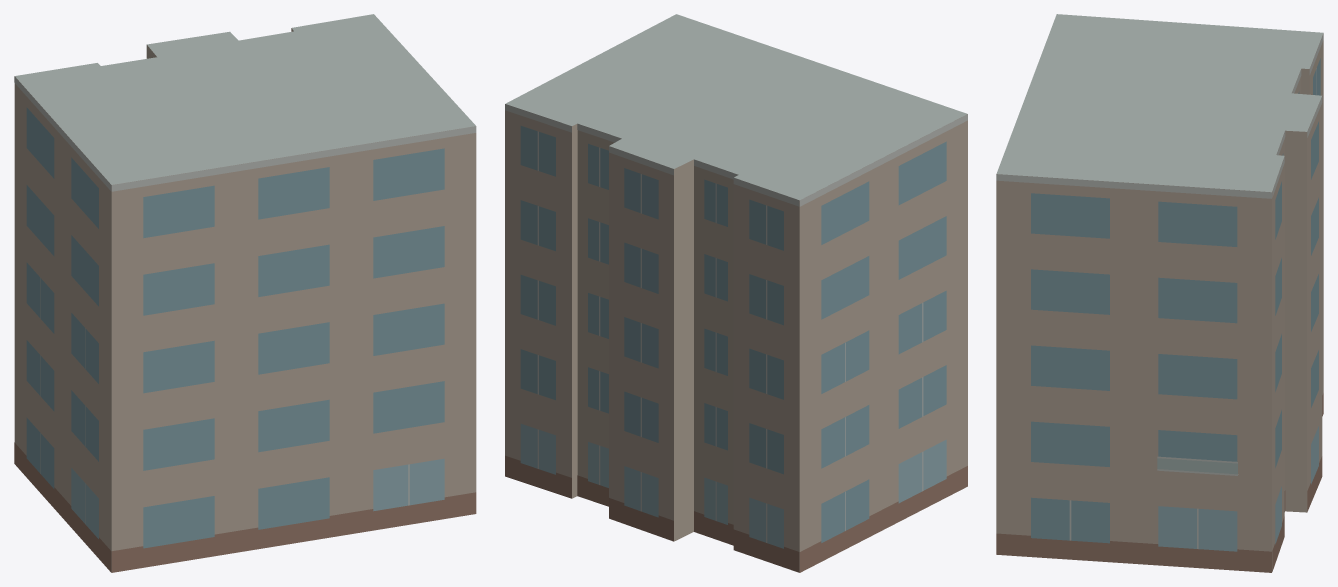
Rendered from survey-upis-32702888.glb.
The picture shows the model from 3 angles, left to right: view 1: azimuth 30°, elevation 25°; view 2: azimuth 150°, elevation 25°; view 3: azimuth 270°, elevation 25°; orthographic projection. The views are drawn at different scales.
Visible parts, largest first — view 1: survey-upis-32702888.tmp; view 2: survey-upis-32702888.tmp; view 3: survey-upis-32702888.tmp.
Boxes of the visible parts, bbox=[...] form: survey-upis-32702888.tmp: bbox=[14, 14, 476, 572]; survey-upis-32702888.tmp: bbox=[505, 14, 967, 572]; survey-upis-32702888.tmp: bbox=[996, 14, 1323, 572].
Bounding box in the file's own units: 14.12 × 14.05 × 10.96.
